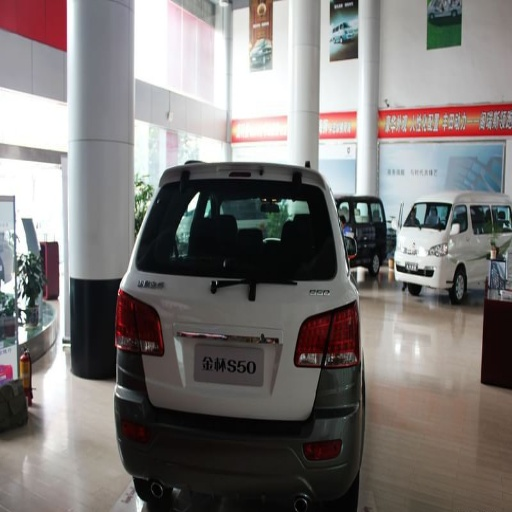back_bumper: (115, 368, 361, 509)
tailgate: (175, 317, 302, 416)
